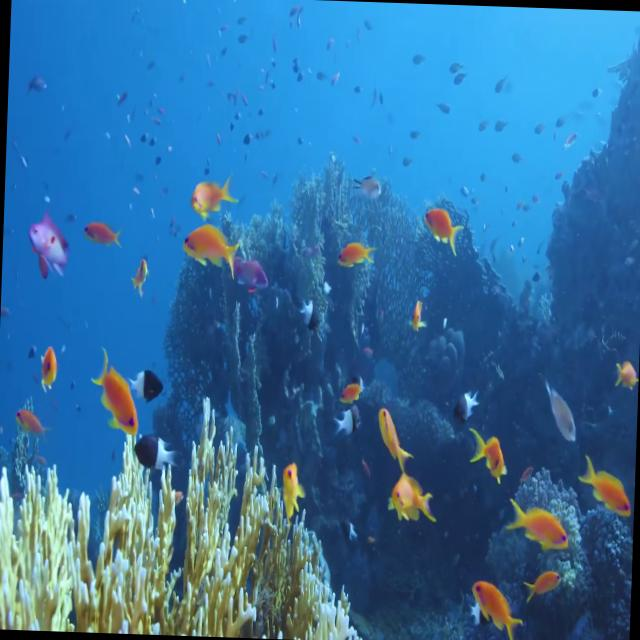fish: (573, 450, 636, 526), (496, 499, 576, 553), (88, 349, 136, 438), (176, 218, 244, 276), (467, 582, 525, 640), (182, 175, 238, 232), (374, 401, 416, 475), (470, 428, 510, 492), (422, 200, 468, 252), (386, 478, 442, 519), (126, 353, 164, 409), (128, 431, 175, 472), (276, 462, 312, 512)
